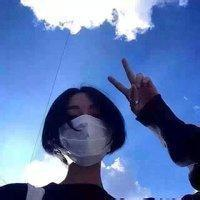face_mask: (62, 100, 108, 159)
